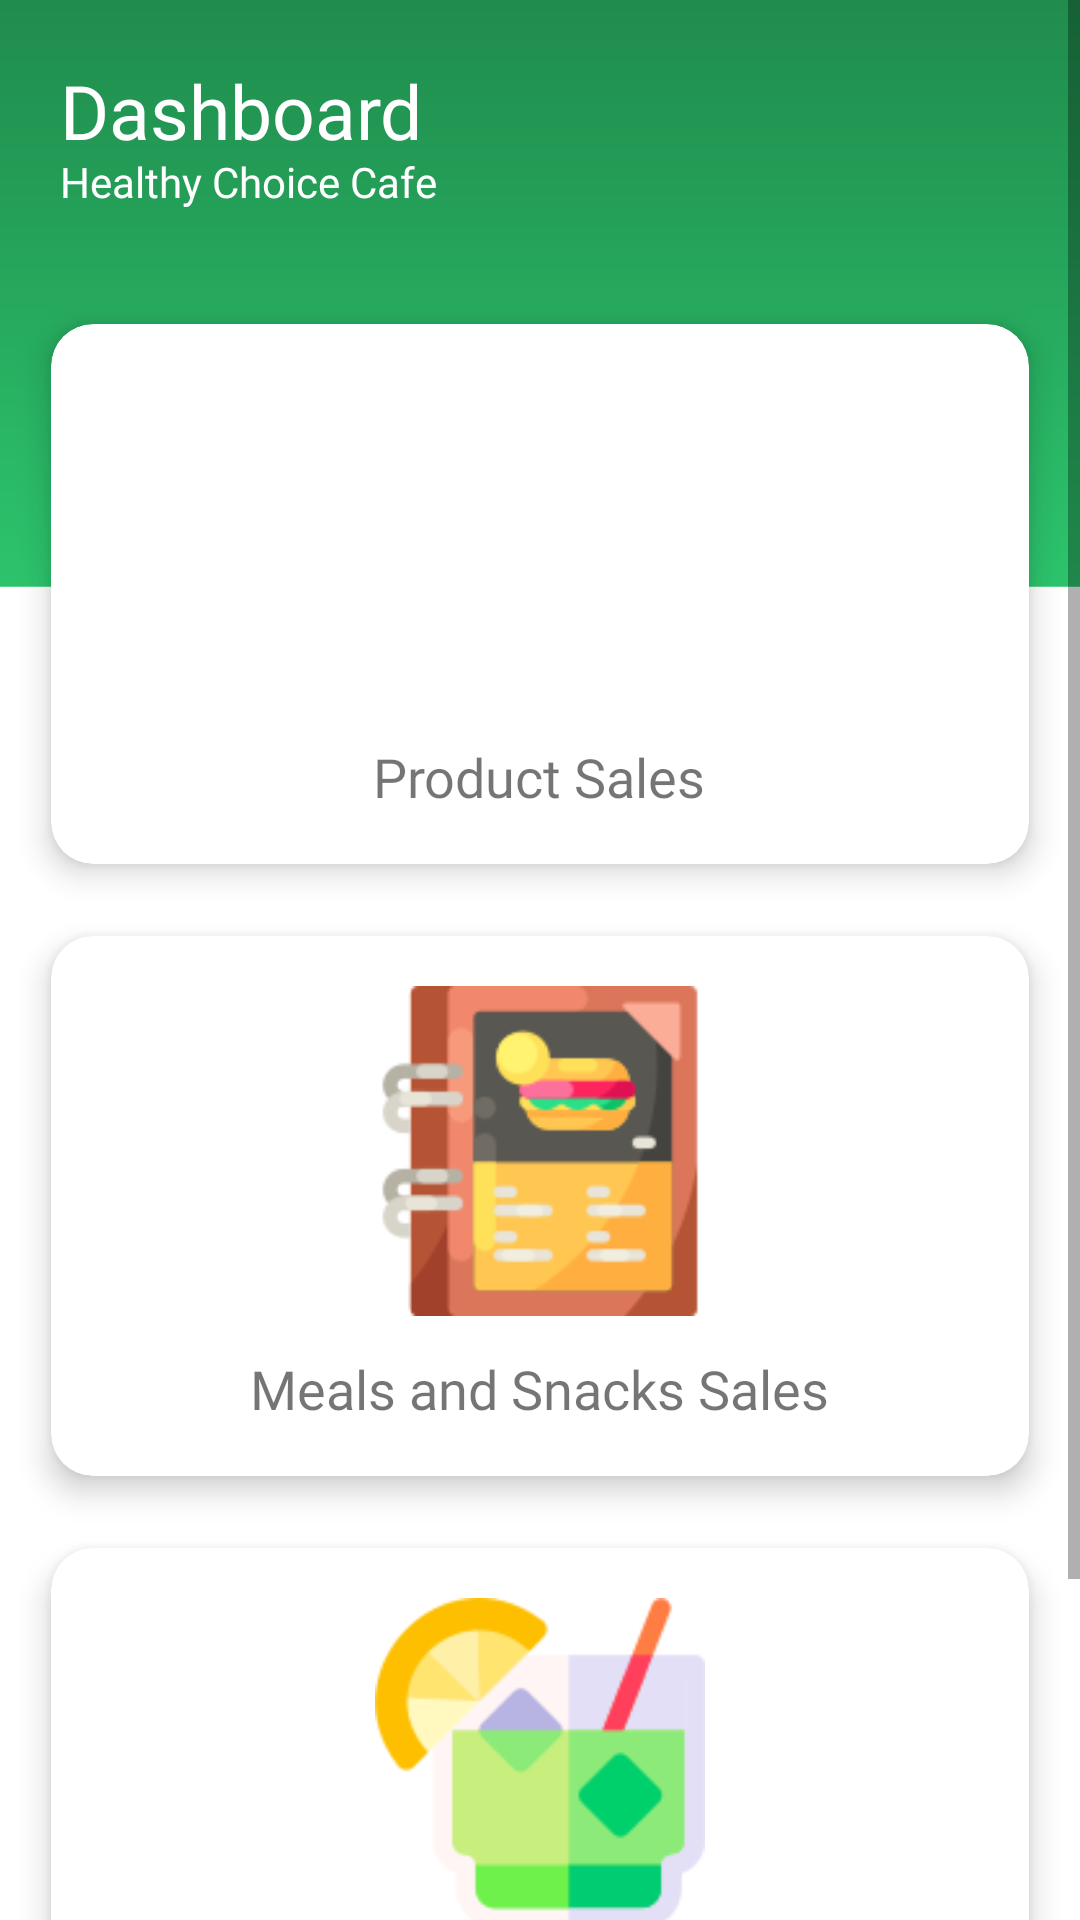

Point at icon controls on the screen. Image size 1080px×1920px, points as [x,y].
drink: [540,1759]
menu: [540,1151]
